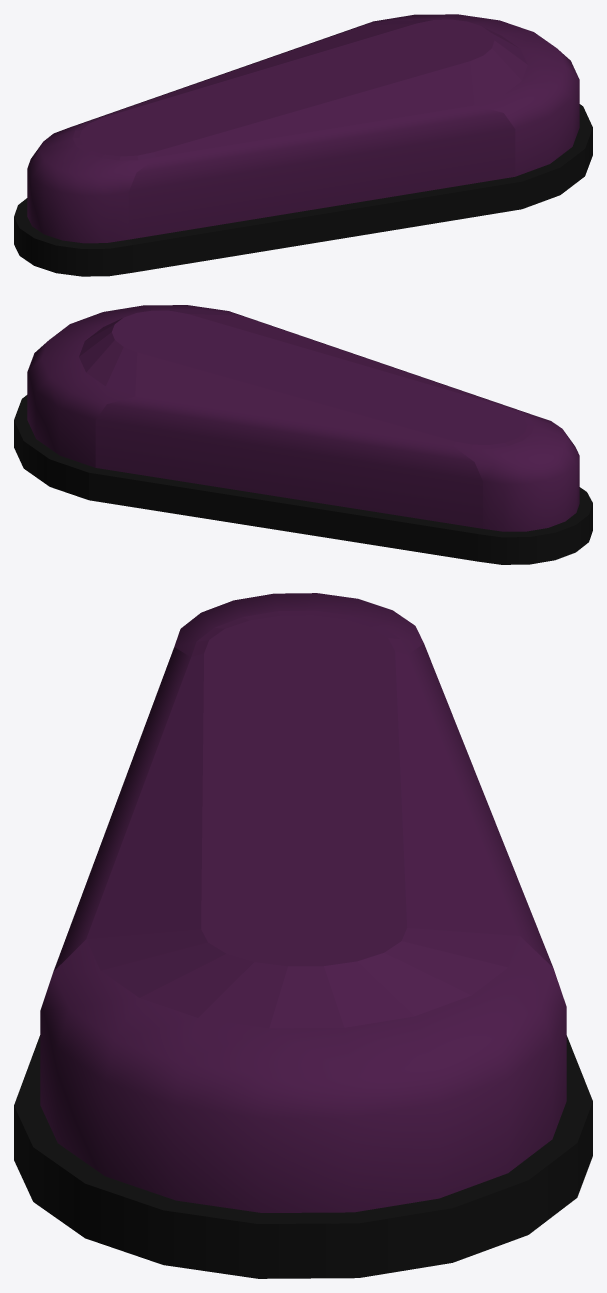
The model's file is flipper.FBX.
3 views of the same model, one above another, from view 1: azimuth 30°, elevation 25°; view 2: azimuth 150°, elevation 25°; view 3: azimuth 270°, elevation 25° (orthographic). The views are drawn at different scales.
Parts seen in each view (by area): view 1: Cylinder004; view 2: Cylinder004; view 3: Cylinder004.
Boxes of the visible parts, left/top/right/bottom form: Cylinder004: left=14, top=14, right=592, bottom=276; Cylinder004: left=14, top=305, right=592, bottom=564; Cylinder004: left=14, top=593, right=592, bottom=1278.
Size of the model in its own units: 4.75 by 0.9681 by 2.2.
